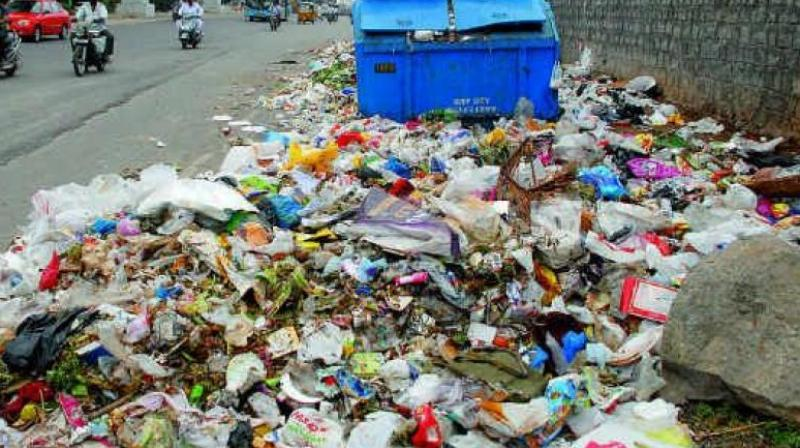trash: (42, 214, 519, 445)
